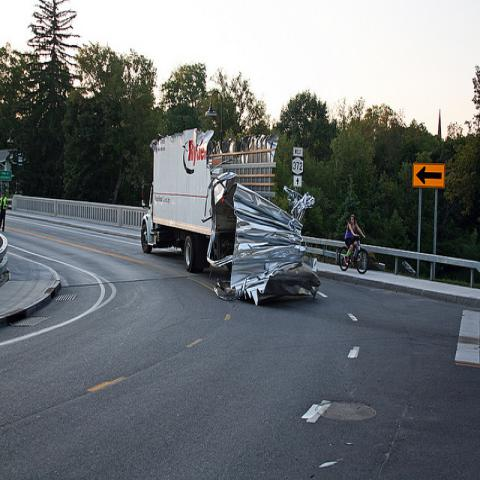truck: (139, 128, 322, 304)
